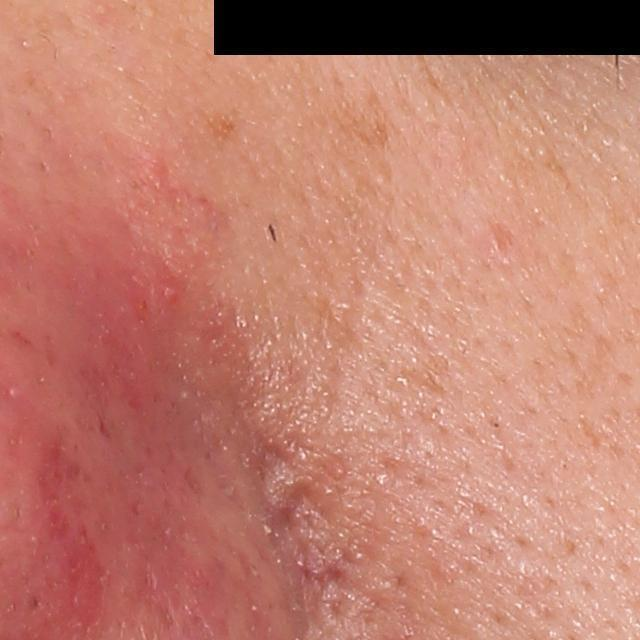melasma: (325, 80, 397, 153), (203, 112, 242, 146)
